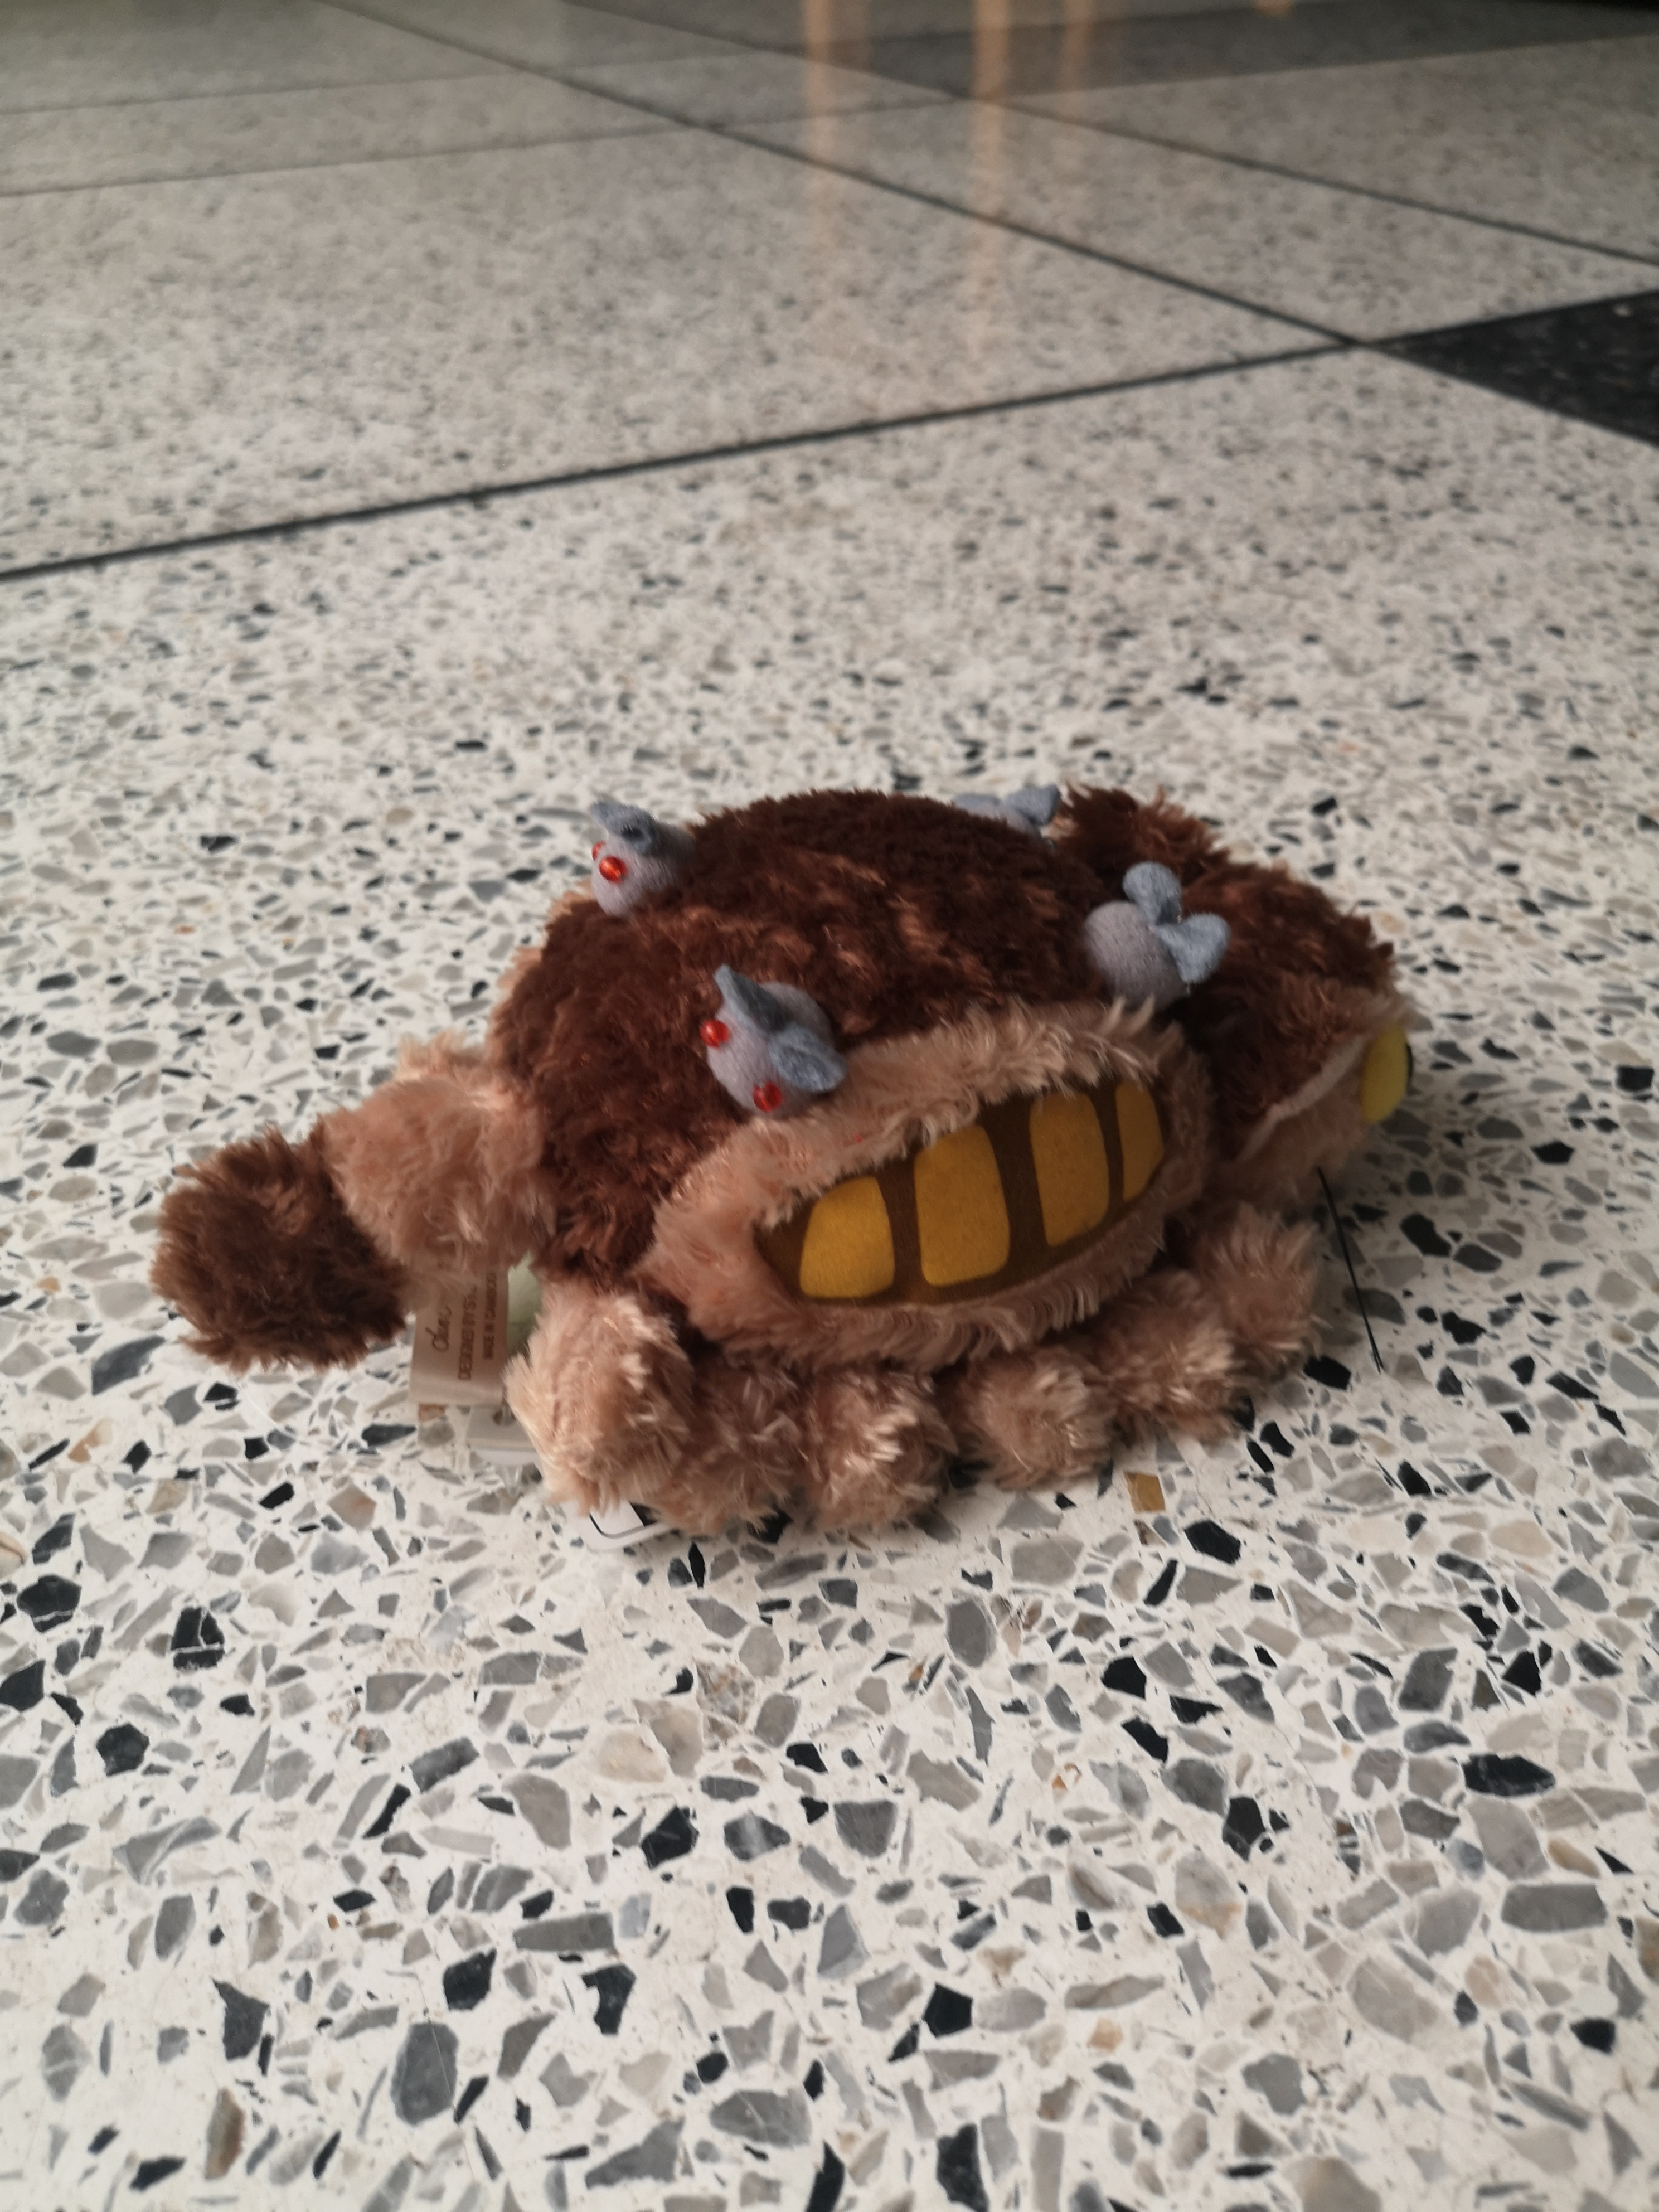nekobus: (152, 754, 1432, 1566)
